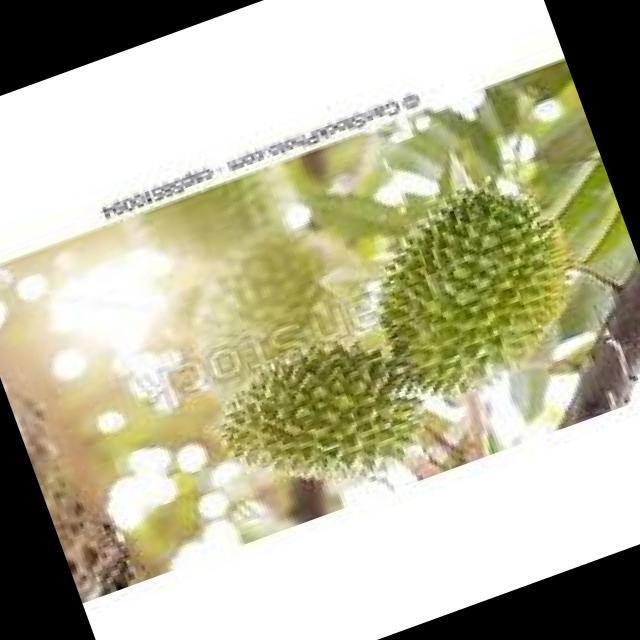fruit: (310, 124, 639, 457)
